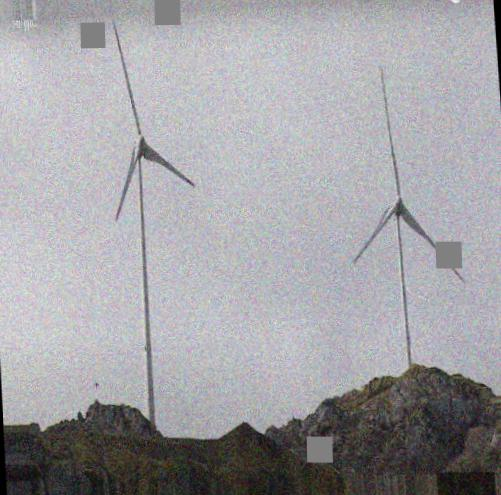wind turbine: (106, 20, 196, 443), (353, 65, 466, 366)
